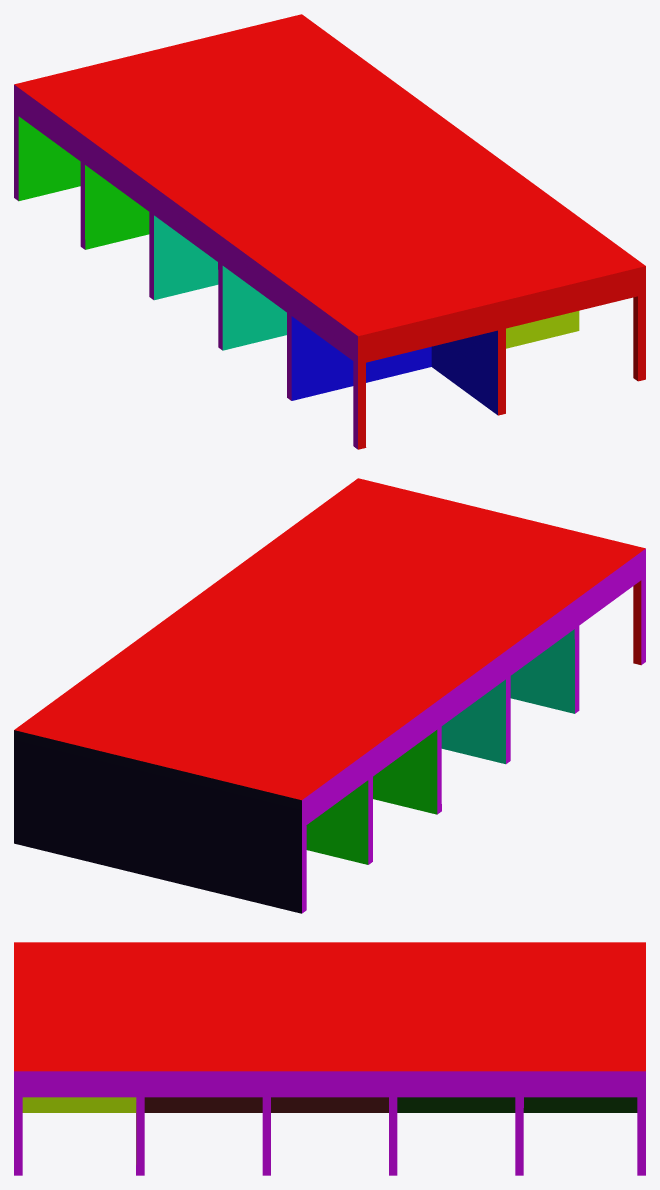
Rendered from 5ShopWall.FBX.
3 views of the same model, one above another, from view 1: azimuth 30°, elevation 25°; view 2: azimuth 150°, elevation 25°; view 3: azimuth 270°, elevation 25° (orthographic). The views are drawn at different scales.
Parts seen in each view (by area): view 1: 5ShopWall; view 2: 5ShopWall; view 3: 5ShopWall.
Part boxes in pixels (x1,y1,x2,y2): 5ShopWall: [14, 14, 645, 449]; 5ShopWall: [14, 478, 645, 913]; 5ShopWall: [14, 942, 645, 1175].
Bounding box in the file's own units: 917 × 345 × 1899.
